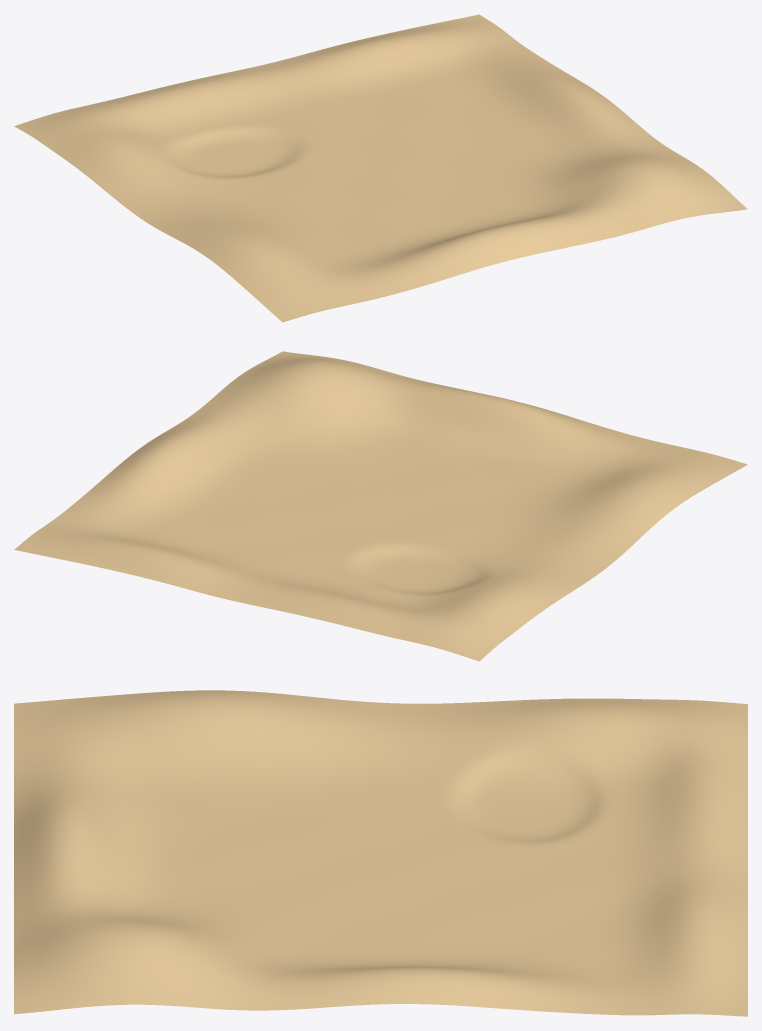
File: SM_SculptedSandTerrain.fbx
The picture shows the model from 3 angles, top to bottom: view 1: azimuth 30°, elevation 25°; view 2: azimuth 150°, elevation 25°; view 3: azimuth 270°, elevation 25°; orthographic projection. The views are drawn at different scales.
Visible parts, largest first — view 1: SM_SculptedSandTerrain_Export; view 2: SM_SculptedSandTerrain_Export; view 3: SM_SculptedSandTerrain_Export.
Boxes of the visible parts, <box> form: SM_SculptedSandTerrain_Export: <box>14,14,747,322</box>; SM_SculptedSandTerrain_Export: <box>14,351,747,661</box>; SM_SculptedSandTerrain_Export: <box>14,690,747,1016</box>.
Size of the model in its own units: 10000 by 10000 by 679.
